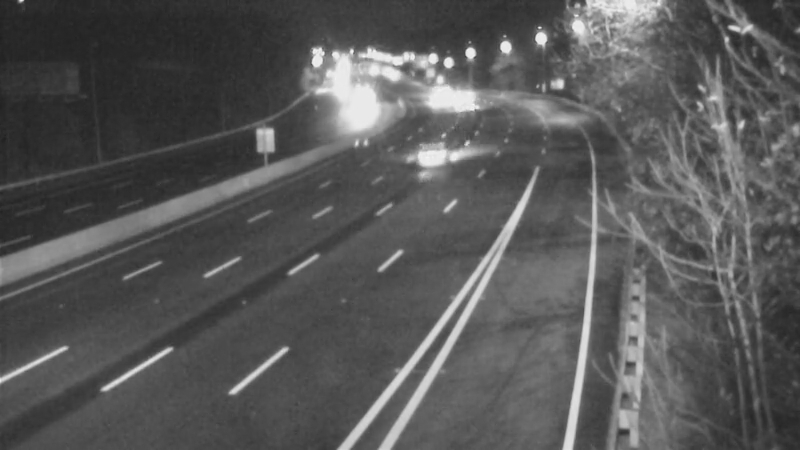vehicle: (408, 76, 458, 126), (436, 71, 486, 121), (439, 80, 489, 130), (408, 121, 458, 171), (331, 82, 381, 132)
